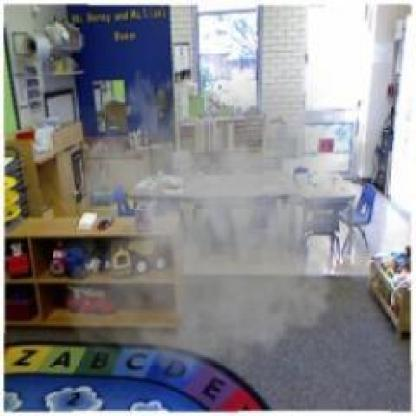Smoke: (58, 46, 400, 393)
